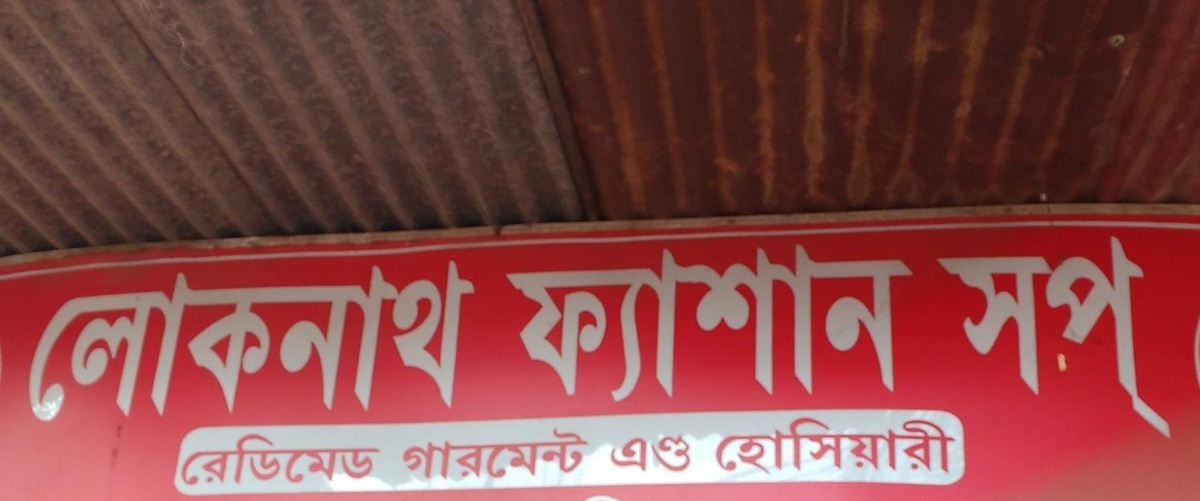text: (929, 226, 944, 448), (945, 226, 960, 448), (961, 226, 976, 448), (977, 226, 992, 448), (993, 226, 1008, 448), (1009, 226, 1024, 448), (1025, 226, 1040, 448), (1041, 226, 1056, 448), (1057, 226, 1072, 448), (1073, 226, 1088, 448), (1089, 226, 1104, 448), (1105, 226, 1120, 448), (1121, 226, 1136, 448), (1137, 226, 1152, 448), (1153, 226, 1168, 448), (33, 254, 48, 429), (49, 254, 64, 429), (65, 254, 80, 429), (81, 254, 96, 429), (97, 254, 112, 429), (113, 254, 128, 429), (129, 254, 144, 429), (145, 254, 160, 429), (161, 254, 176, 429), (177, 254, 192, 429), (193, 254, 208, 429), (209, 254, 224, 429), (225, 254, 240, 429), (241, 254, 256, 429), (257, 254, 272, 429), (273, 254, 288, 429), (289, 254, 304, 429), (305, 254, 320, 429), (321, 254, 336, 429), (337, 254, 352, 429), (353, 254, 368, 429), (369, 254, 384, 429), (385, 254, 400, 429), (401, 254, 416, 429), (417, 254, 432, 429), (433, 254, 448, 429), (449, 254, 464, 429), (465, 254, 480, 429), (497, 237, 512, 409), (513, 237, 528, 409), (529, 237, 544, 409), (545, 237, 560, 409), (561, 237, 576, 409), (577, 237, 592, 409), (593, 237, 608, 409), (609, 237, 624, 409), (625, 237, 640, 409), (641, 237, 656, 409), (657, 237, 672, 409), (673, 237, 688, 409), (689, 237, 704, 409), (705, 237, 720, 409), (721, 237, 736, 409), (737, 237, 752, 409), (753, 237, 768, 409), (769, 237, 784, 409), (785, 237, 800, 409), (801, 237, 816, 409), (817, 237, 832, 409), (833, 237, 848, 409), (849, 237, 864, 409), (865, 237, 880, 409), (881, 237, 896, 409), (897, 237, 912, 409), (1169, 226, 1179, 448), (913, 237, 922, 409), (945, 415, 961, 474), (193, 429, 208, 490), (209, 429, 224, 490), (225, 429, 240, 490), (241, 429, 256, 490), (257, 429, 272, 490), (273, 429, 288, 490), (289, 429, 304, 490), (305, 429, 320, 490), (321, 429, 336, 490), (337, 429, 352, 490), (353, 429, 368, 490), (369, 429, 384, 490), (401, 422, 416, 482), (417, 422, 432, 482), (433, 422, 448, 482), (449, 422, 464, 482), (465, 422, 480, 482), (481, 422, 496, 482), (497, 422, 512, 482), (513, 422, 528, 482), (529, 422, 544, 482), (545, 422, 560, 482), (561, 422, 576, 482), (577, 422, 592, 482), (721, 415, 736, 474), (737, 415, 752, 474), (753, 415, 768, 474), (769, 415, 784, 474), (785, 415, 800, 474), (801, 415, 816, 474), (817, 415, 832, 474), (833, 415, 848, 474), (849, 415, 864, 474), (865, 415, 880, 474), (881, 415, 896, 474), (897, 415, 912, 474), (913, 415, 928, 474), (929, 415, 944, 474), (27, 254, 32, 429), (609, 424, 624, 477), (625, 424, 640, 477), (641, 424, 656, 477), (657, 424, 672, 477), (673, 424, 688, 477), (481, 254, 484, 429), (385, 429, 392, 490), (689, 424, 696, 477), (716, 415, 720, 474), (927, 226, 928, 448), (593, 422, 596, 482), (399, 422, 400, 482), (607, 424, 608, 477)
